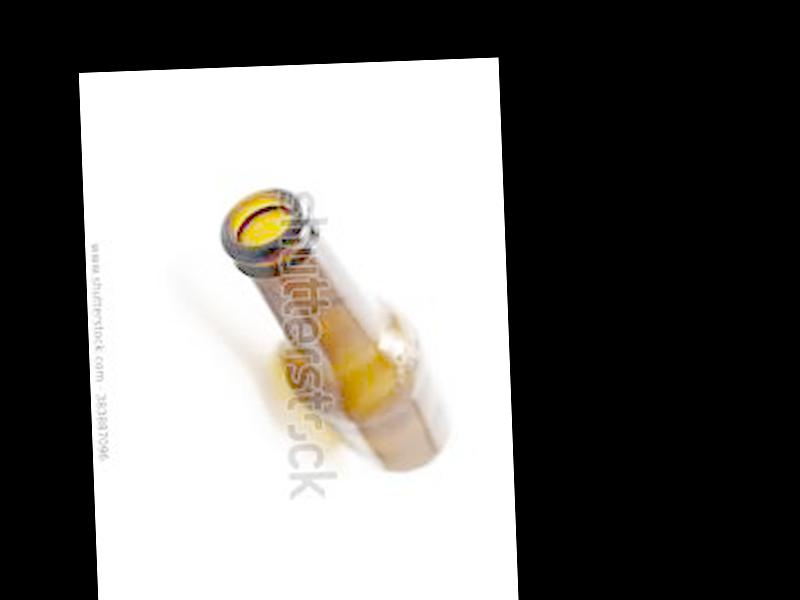Beer: (216, 181, 450, 479)
